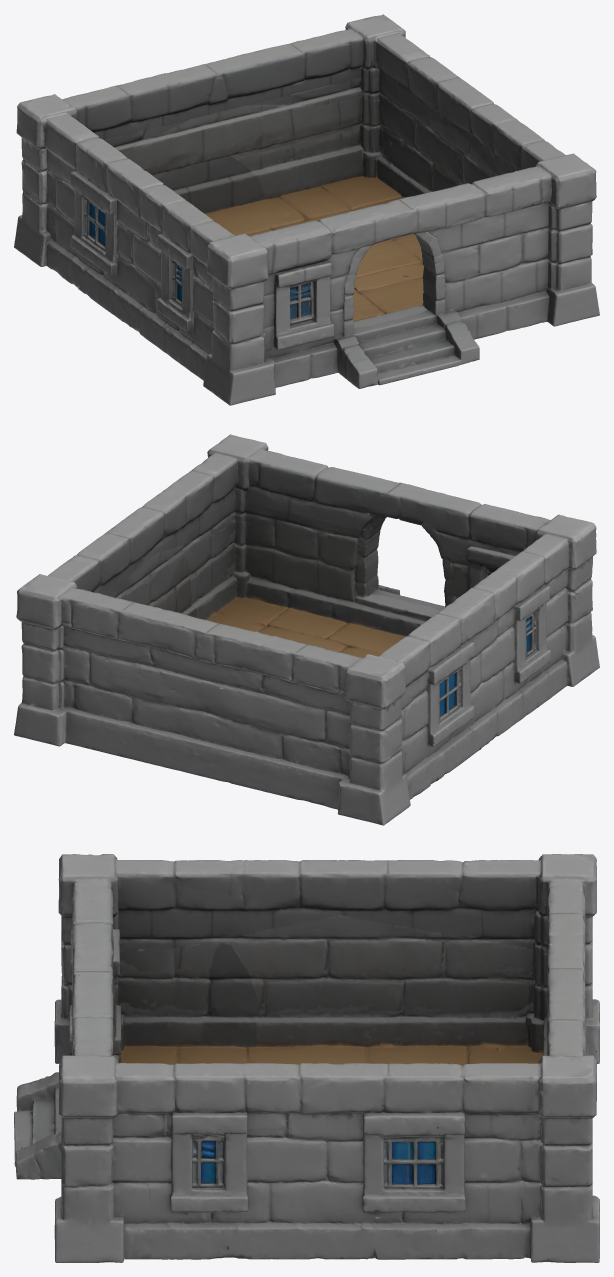
Rendered from Stone_Fortress_Base_1122213628_texture.fbx.
The picture shows the model from 3 angles, top to bottom: view 1: azimuth 30°, elevation 25°; view 2: azimuth 150°, elevation 25°; view 3: azimuth 270°, elevation 25°; orthographic projection. The views are drawn at different scales.
Parts seen in each view (by area): view 1: input; view 2: input; view 3: input.
Part boxes in pixels (x1,y1,x2,y2): input: [14, 14, 599, 405]; input: [14, 434, 599, 825]; input: [14, 854, 599, 1262].
Size of the model in its own units: 175 by 66.15 by 190.
Materials: 1 (1 with a texture image).
